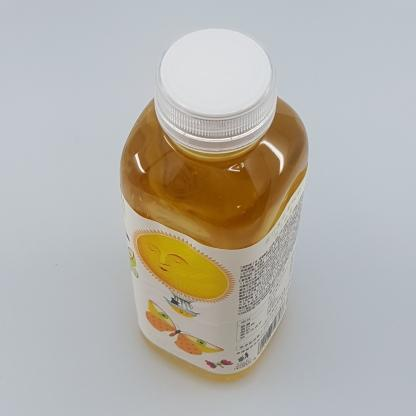------------: (119, 27, 309, 382)
